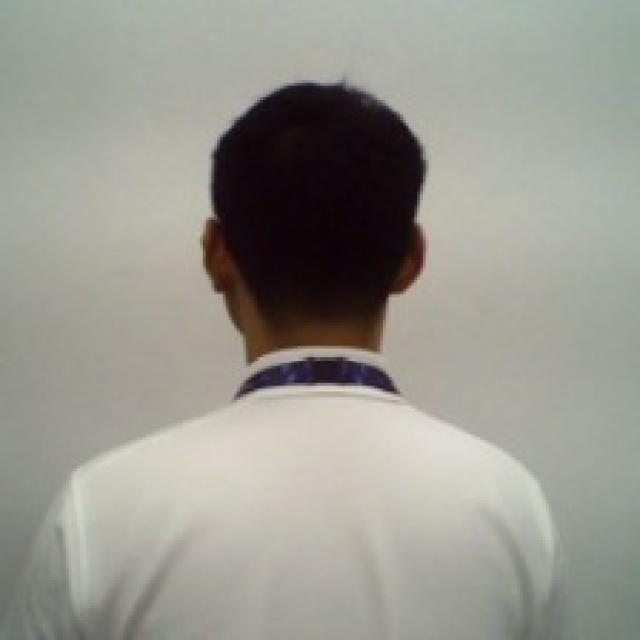no_gloves: (190, 78, 433, 382)
